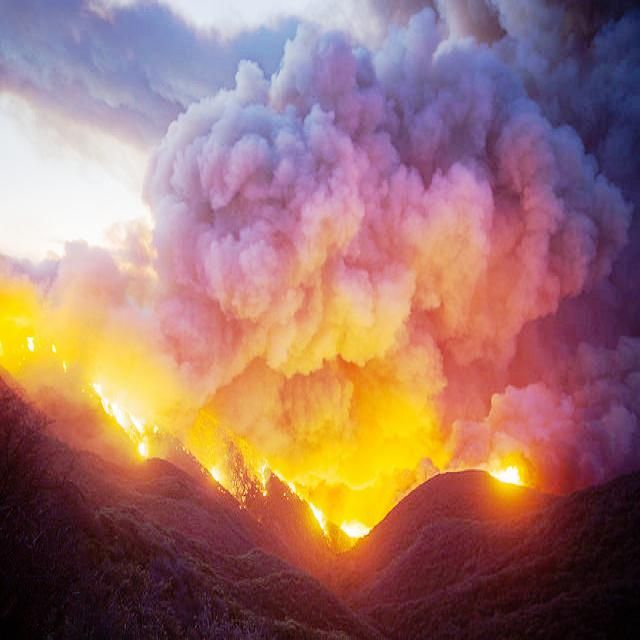api: (94, 369, 154, 464), (301, 489, 323, 545), (497, 459, 521, 495), (326, 524, 374, 538)
asap: (1, 6, 640, 346), (167, 350, 476, 477), (478, 313, 638, 473)
